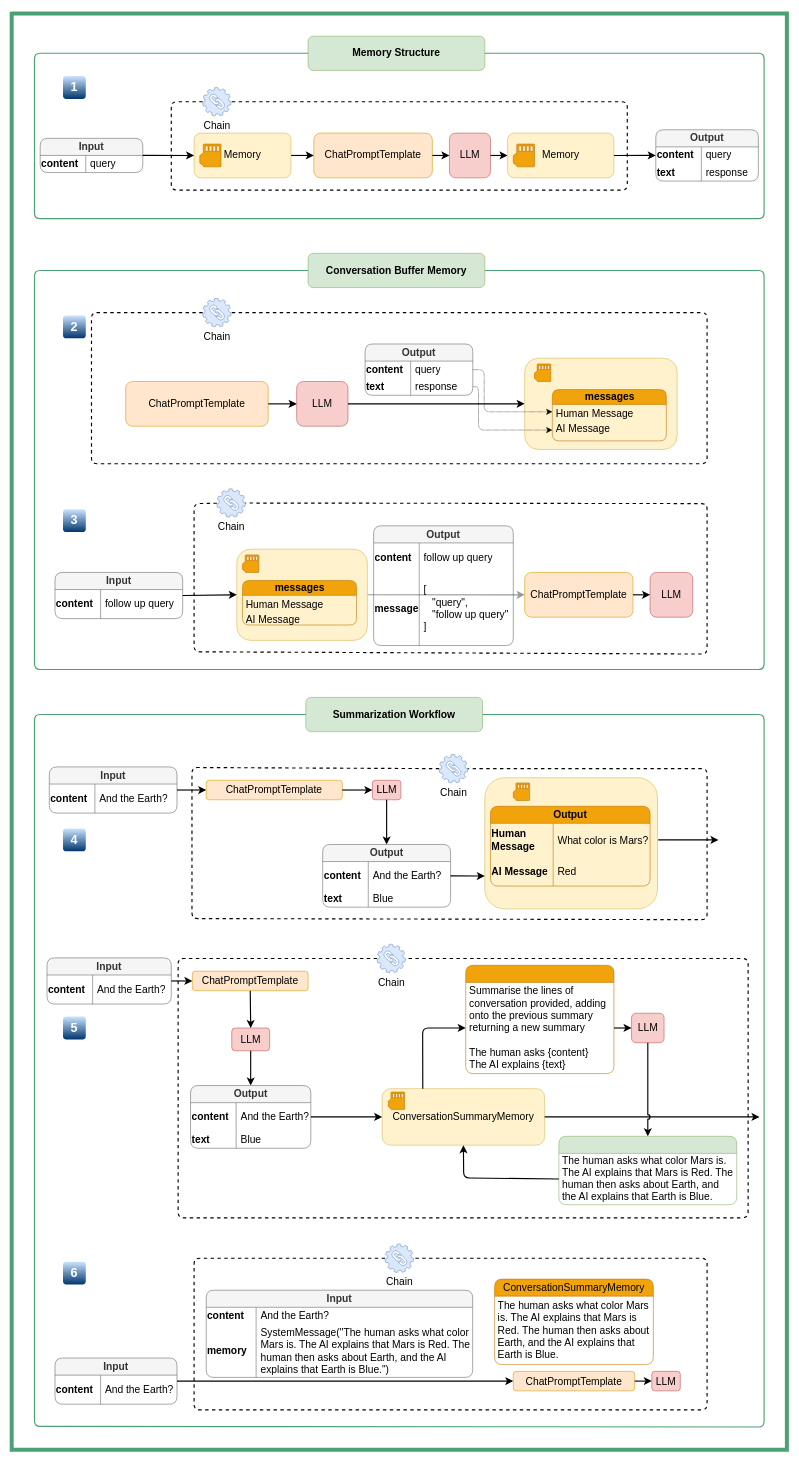
Some shapes in this 799 by 1462 pixel diagram are drawn without their labels. The box of each missing label's shape, as (x1, y1, x2, y2) in pixels:
PromptTemplate: (465, 965, 614, 1074)
System: (558, 1136, 737, 1205)
